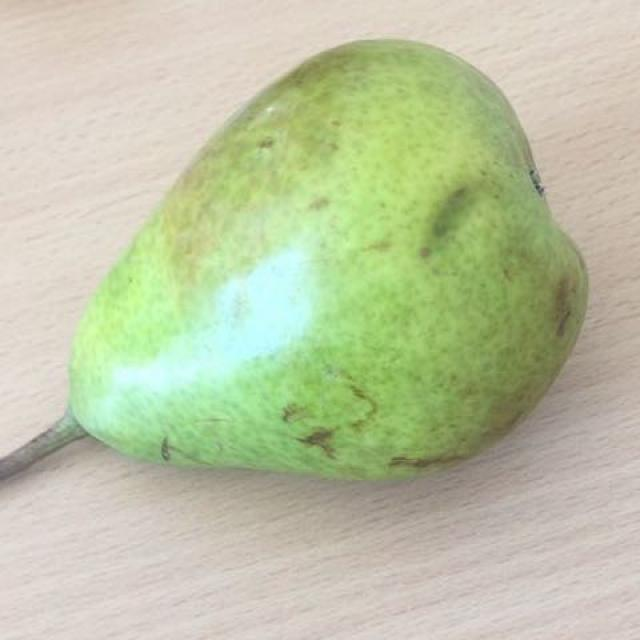pear: (71, 49, 583, 470)
